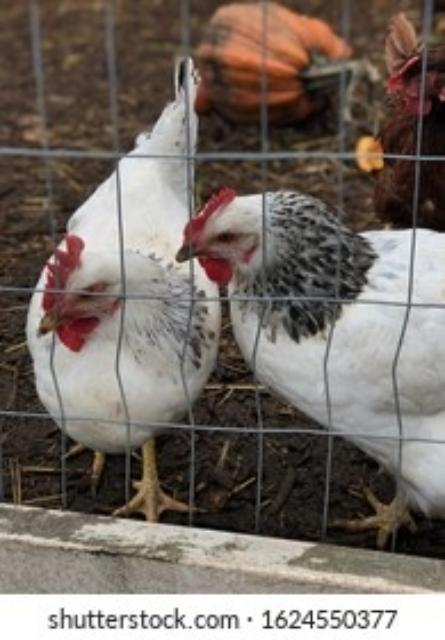Chicken: (177, 187, 445, 538), (27, 61, 222, 519)
